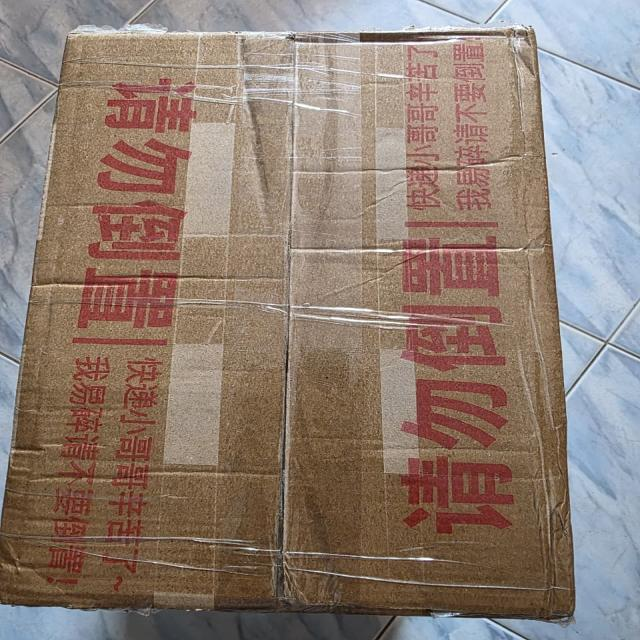carton_box: (10, 11, 589, 633)
